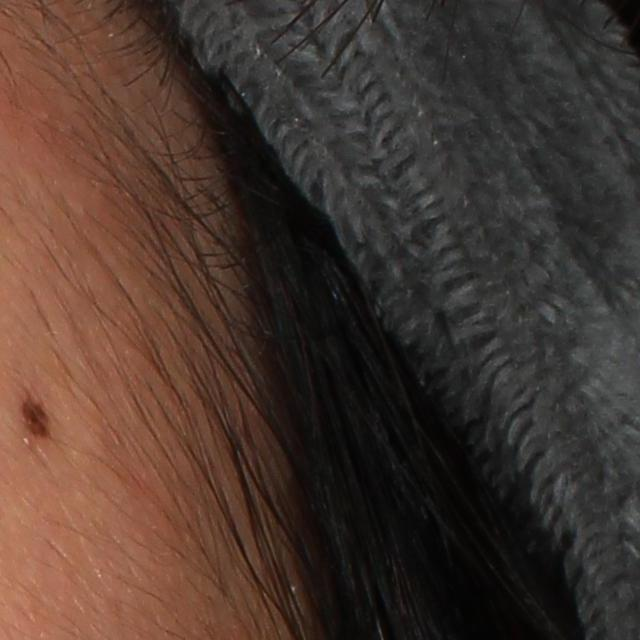nevus: (18, 390, 59, 438)
